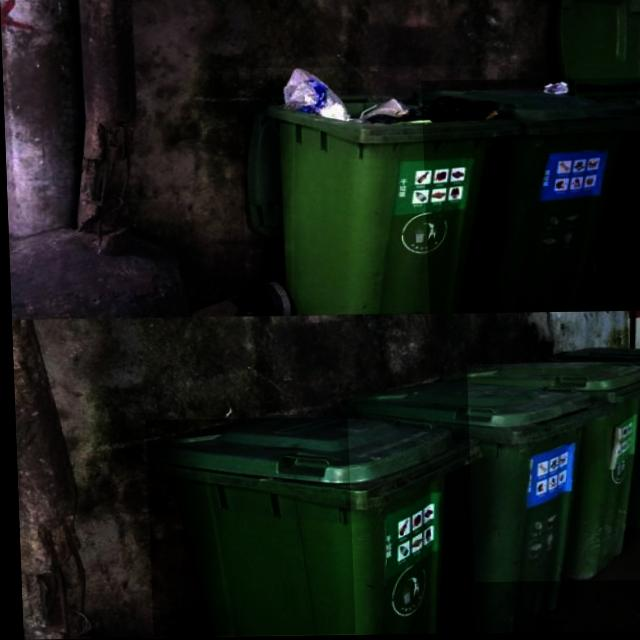garbage_bin: (143, 417, 482, 637), (343, 380, 611, 635), (464, 364, 640, 584)
overflow: (238, 66, 524, 316), (421, 80, 640, 315)
